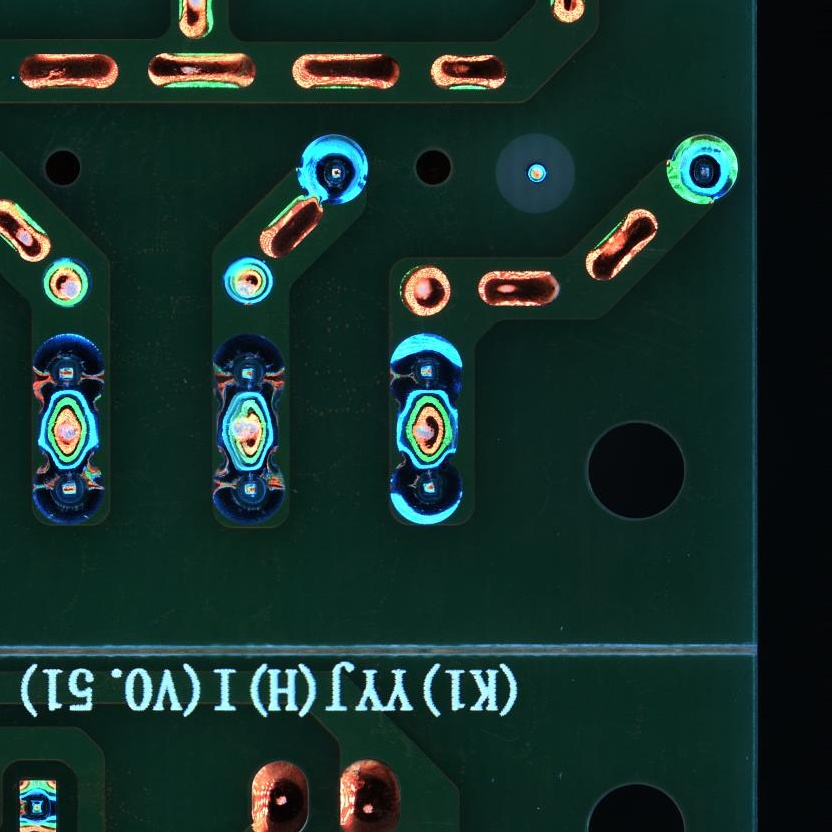spot: (207, 331, 286, 413), (387, 332, 465, 409), (29, 331, 105, 409), (295, 132, 372, 207), (665, 131, 741, 206), (32, 458, 107, 528), (210, 459, 289, 525), (387, 459, 463, 527), (40, 256, 95, 310), (221, 254, 276, 307), (17, 777, 58, 832)
